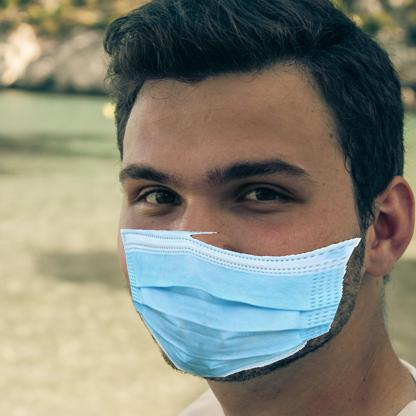mask: (117, 222, 364, 380)
